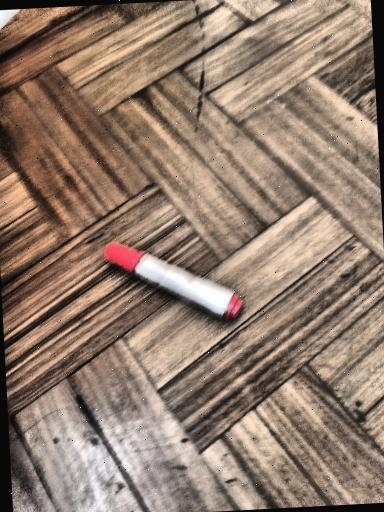marcador rojo: (104, 242, 242, 319)
